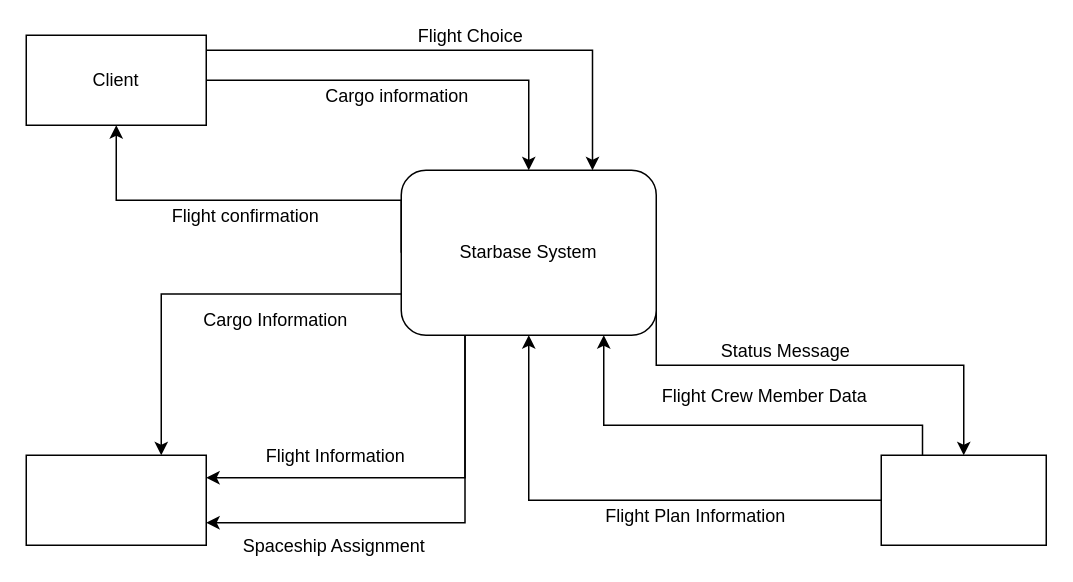
Some shapes in this 1073 by 582 pixel diagram are drawn without their labels. The centre of each missing label's shape, as x and y in pixels:
Flight Crew: pixel 115 499
Ground Crew: pixel 963 499
